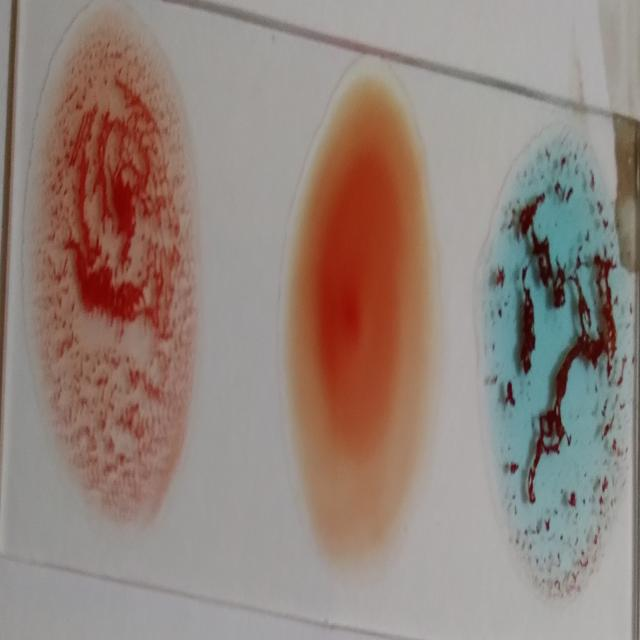A: (488, 145, 624, 593)
D: (30, 22, 195, 507)
